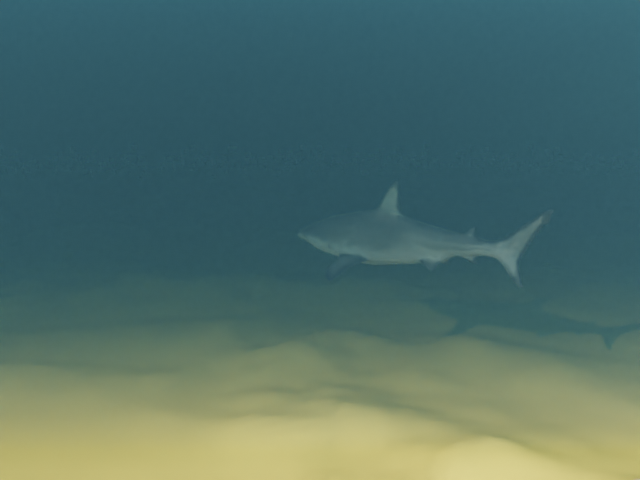Carribean Shark.001: (297, 180, 553, 287)
